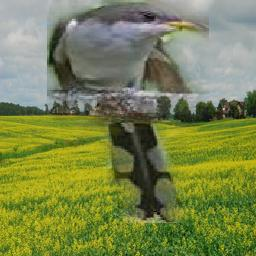Cuckoo: (47, 0, 209, 223)
